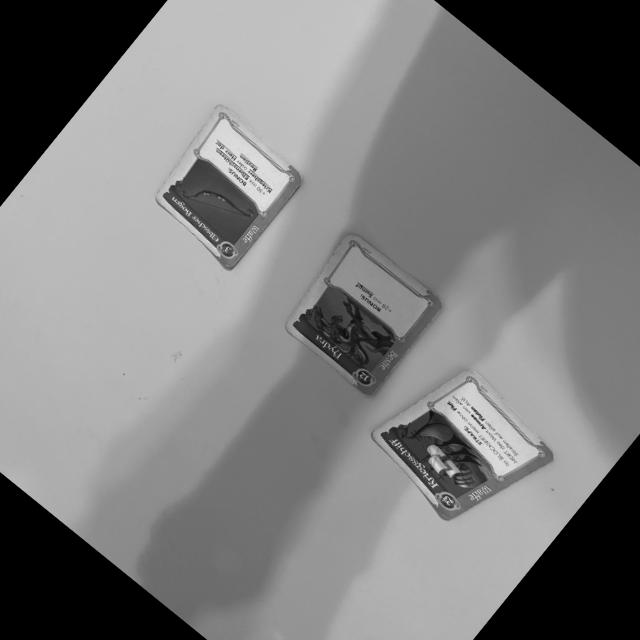Elven Longbow: (152, 100, 305, 272)
Hydra: (278, 233, 449, 401)
Warship: (368, 366, 559, 520)
